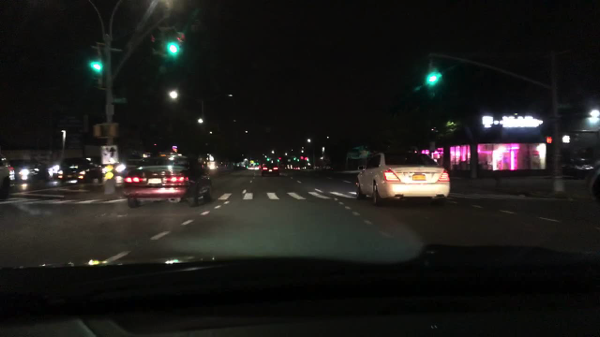car: (354, 150, 451, 208), (124, 153, 211, 207), (54, 156, 105, 182), (9, 159, 53, 182), (0, 150, 15, 201), (559, 158, 594, 178), (116, 159, 141, 176), (261, 161, 280, 177), (591, 173, 598, 204), (204, 161, 217, 169), (292, 165, 302, 172), (322, 165, 333, 171), (284, 165, 293, 170)
traffic light: (88, 60, 103, 85), (164, 31, 177, 58), (152, 28, 165, 55), (428, 62, 439, 85), (177, 29, 184, 58), (109, 124, 119, 137), (93, 125, 102, 138), (560, 133, 570, 143), (544, 135, 554, 144)
traffic sign: (101, 147, 117, 164), (105, 164, 115, 179), (557, 103, 574, 109), (429, 141, 435, 153), (113, 98, 127, 103), (206, 154, 214, 162)
